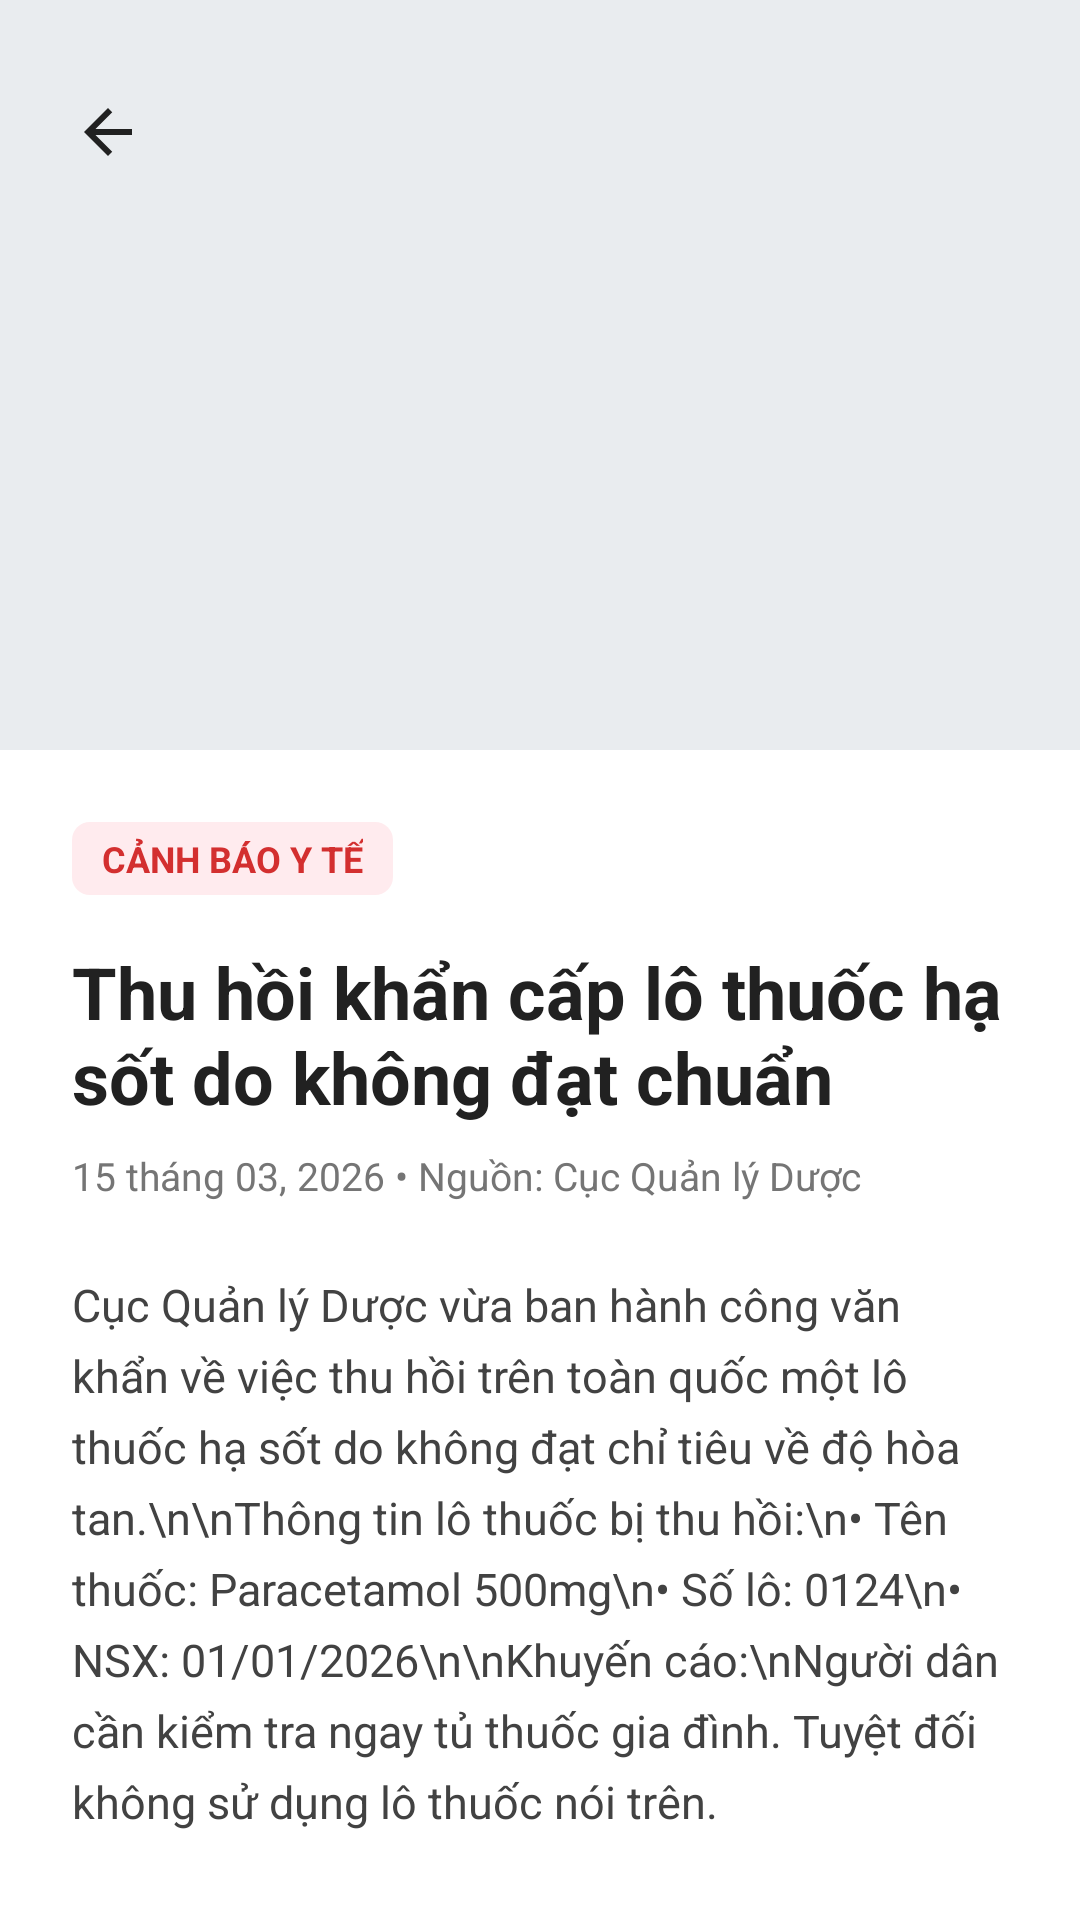

Screen size 1080w x 1920h. Icon name, then its box in pixels as box=[x1, y1, x2, y2]:
Quay lại: box=[84, 108, 132, 156]
